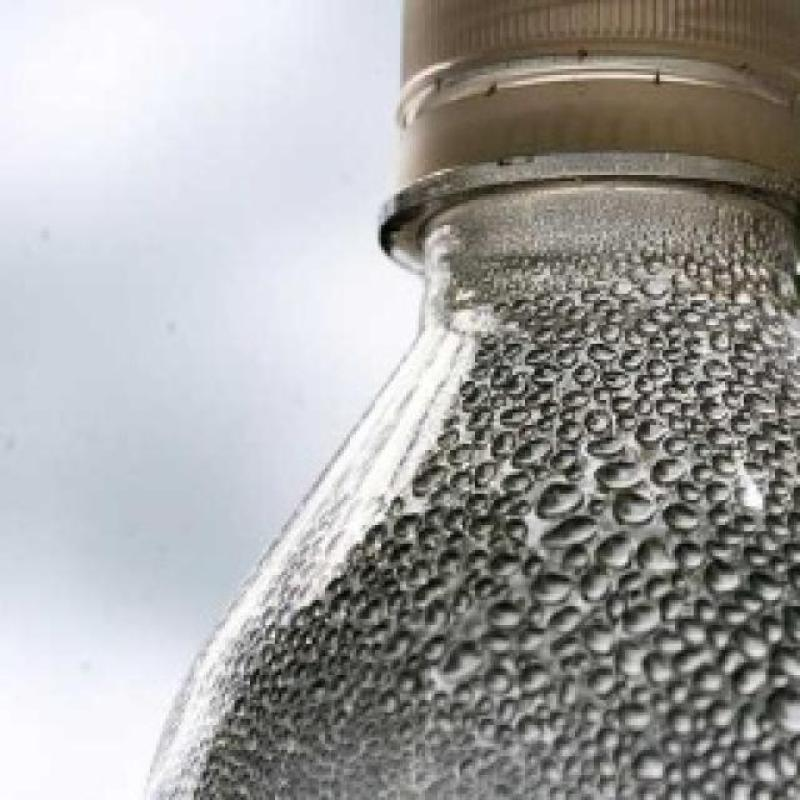botella: (144, 0, 800, 800)
